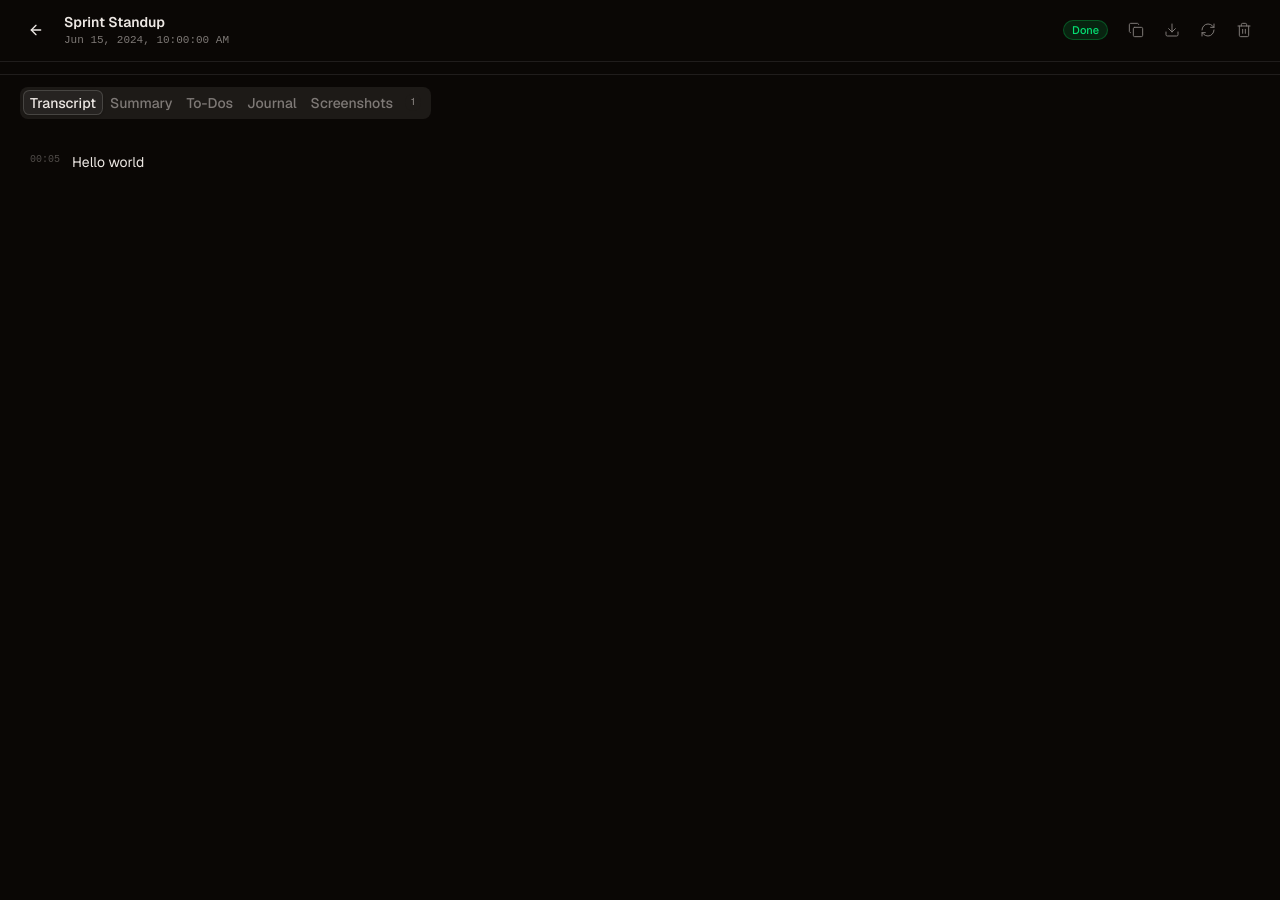
Transcript — screenshot lightbox › toggles the image info panel
Step 1. Click the tab "Screenshots 1" → (366, 102), box [304, 90, 428, 115]
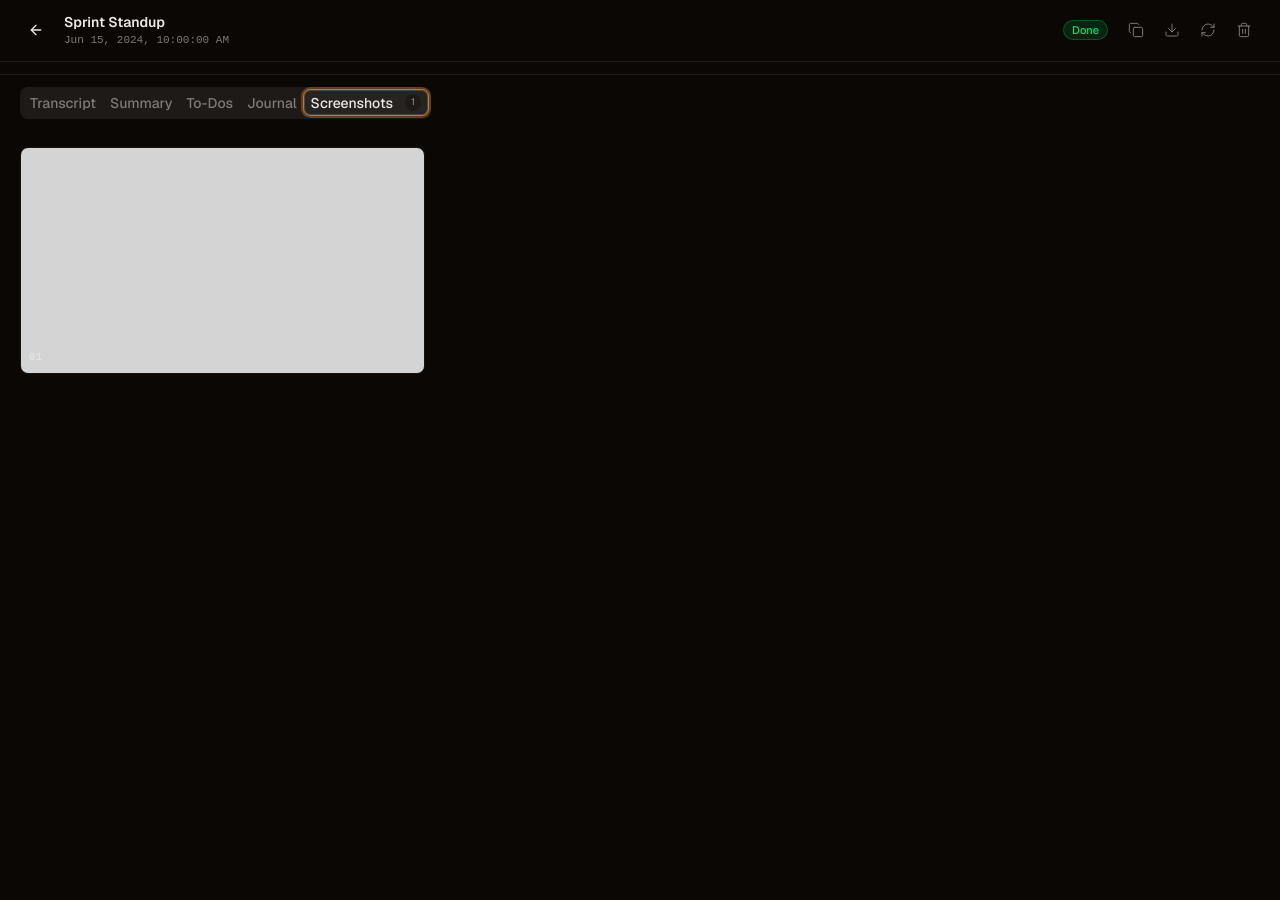
Step 2. Click the button named "open screenshot 1" → (223, 260), box [20, 146, 425, 374]
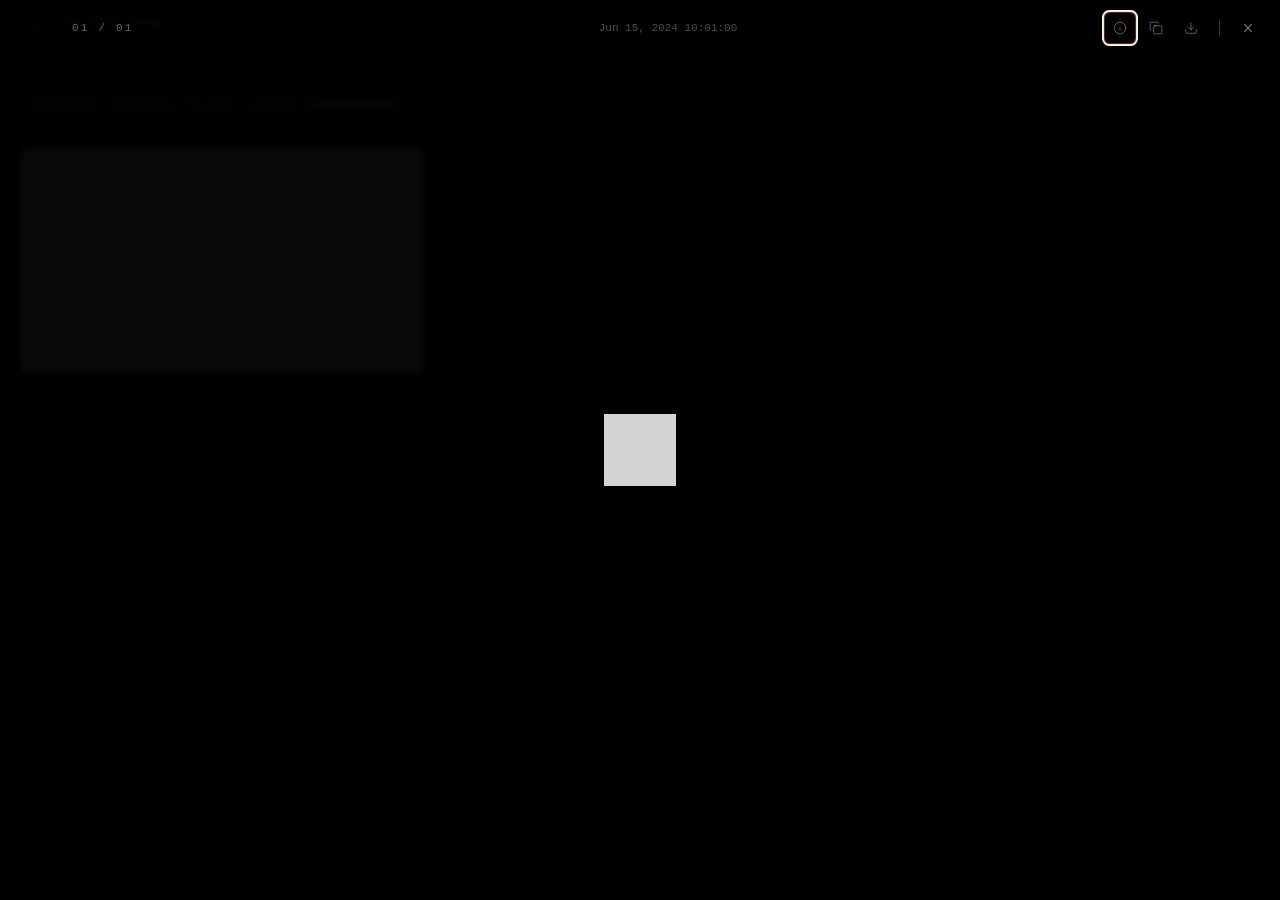
Expected: the text "image details" is not shown
Result: the button named "close" is shown at [1232, 12, 1264, 44]
Step 3. Click the button named "info" → (1120, 28), box [1104, 12, 1136, 44]
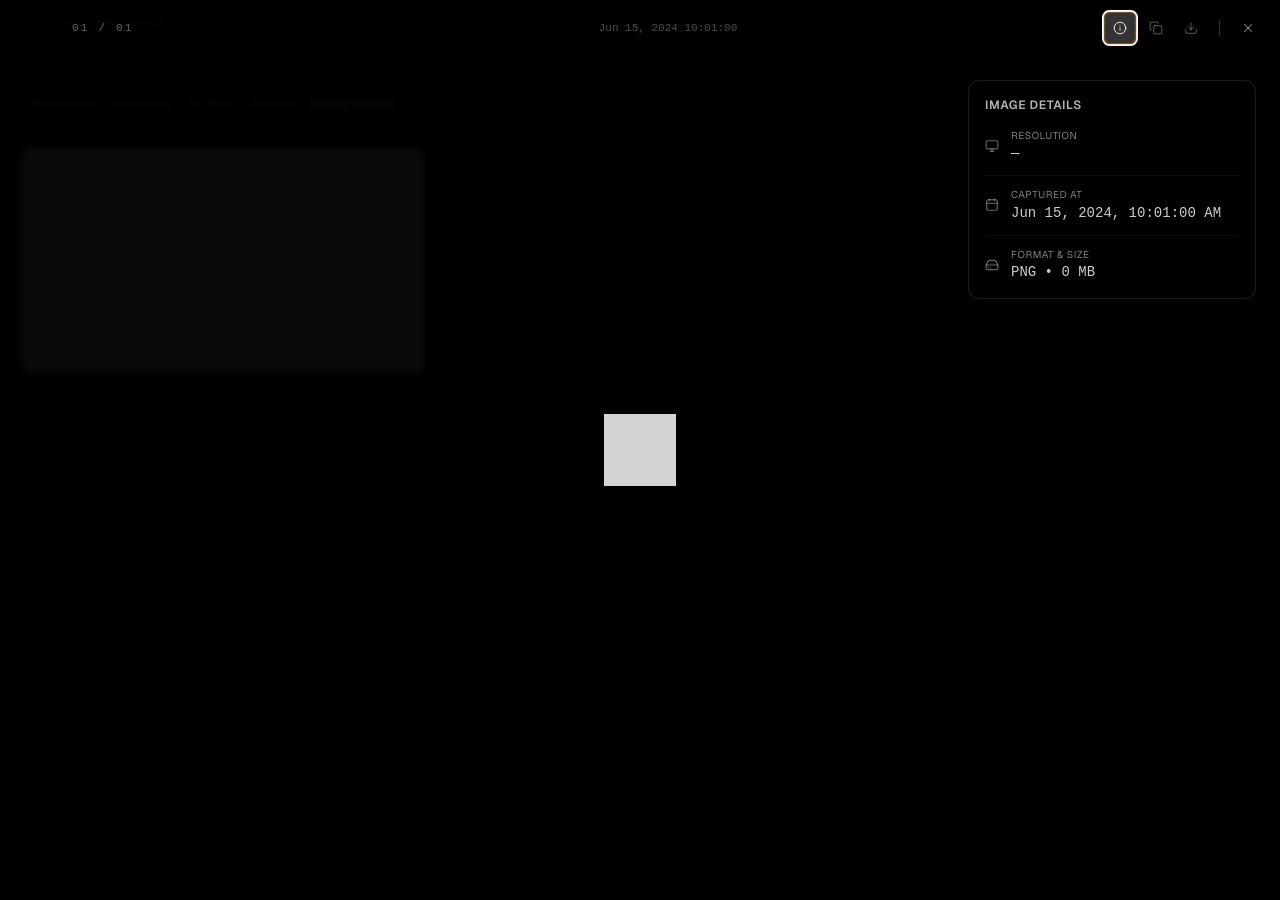
Result: the heading "Image Details" is shown at [985, 97, 1082, 113]
Result: the text "Format & Size" is shown at [1011, 248, 1095, 262]
